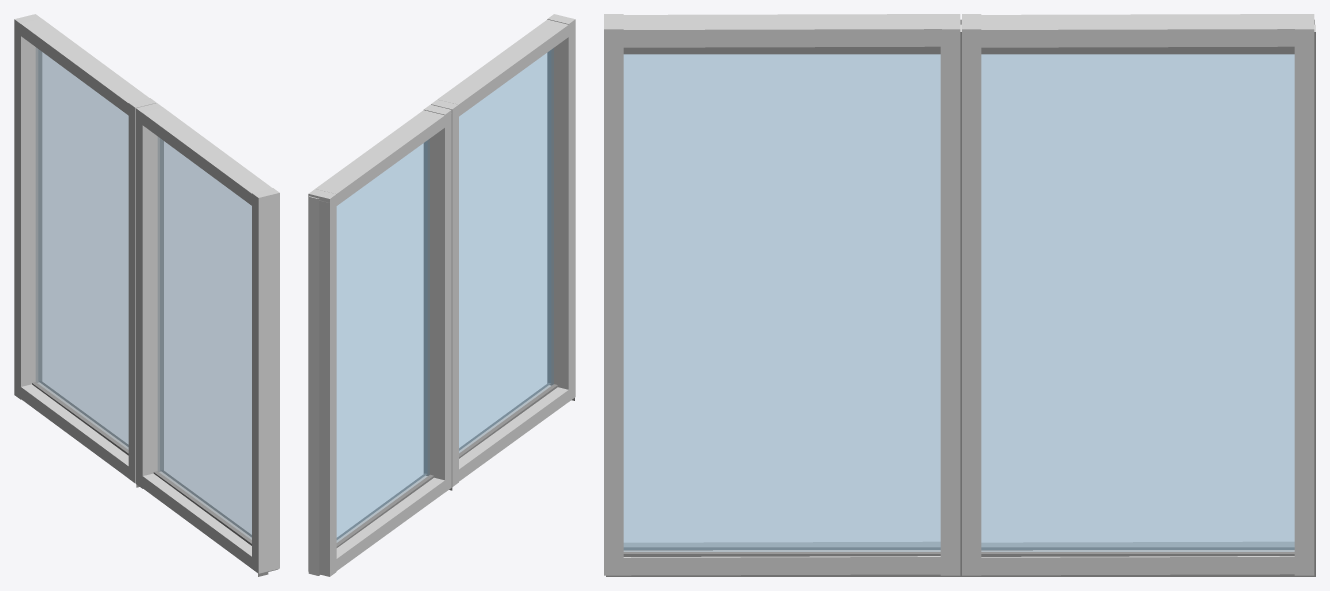
The model's file is estesiquesiquesiiiii 1.fbx.
3 views of the same model, side by side, from view 1: azimuth 30°, elevation 25°; view 2: azimuth 150°, elevation 25°; view 3: azimuth 270°, elevation 25° (orthographic). The views are drawn at different scales.
Visible parts, largest first — view 1: Cristal 0, Cristal 1, Marco 0, Marco 1; view 2: Cristal 1, Cristal 0, Marco 1, Marco 0; view 3: Cristal 1, Cristal 0, Marco 0, Marco 1.
Boxes of the visible parts, x1=… form: Cristal 0: x1=153, y1=137, x2=278, y2=576; Cristal 1: x1=32, y1=48, x2=139, y2=487; Marco 0: x1=136, y1=103, x2=279, y2=573; Marco 1: x1=14, y1=14, x2=156, y2=483; Cristal 1: x1=308, y1=139, x2=452, y2=575; Cristal 0: x1=459, y1=48, x2=574, y2=458; Marco 1: x1=308, y1=104, x2=451, y2=576; Marco 0: x1=431, y1=14, x2=575, y2=487; Cristal 1: x1=960, y1=19, x2=1315, y2=576; Cristal 0: x1=606, y1=20, x2=961, y2=576; Marco 0: x1=604, y1=14, x2=960, y2=575; Marco 1: x1=962, y1=14, x2=1314, y2=575.
Size of the model in its own units: 7.06 by 120 by 141.
